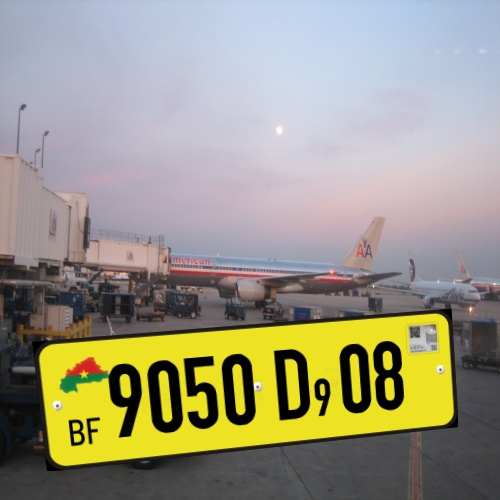plate: (27, 303, 475, 474)
